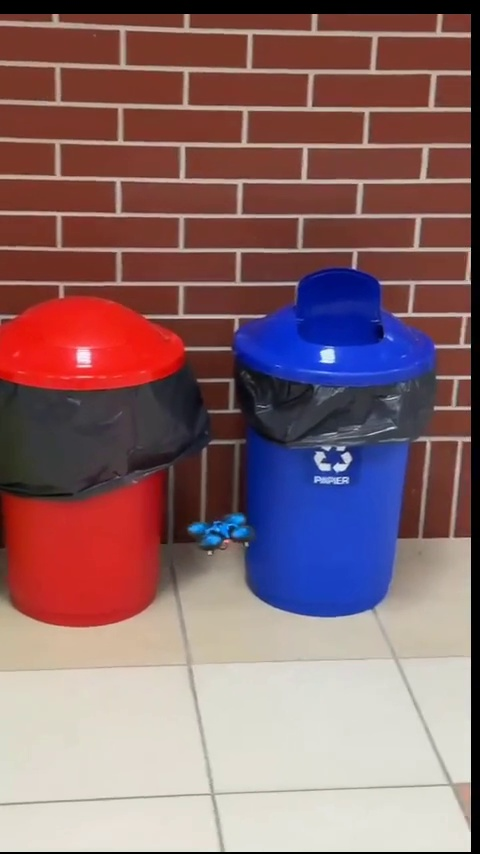drone: (189, 515, 259, 556)
